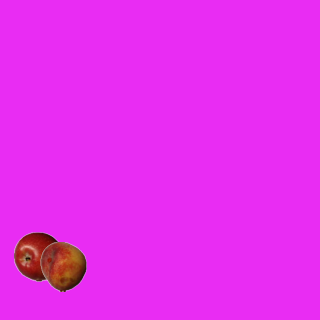Apple Braeburn: (13, 231, 63, 281)
Peach: (38, 241, 88, 291)
